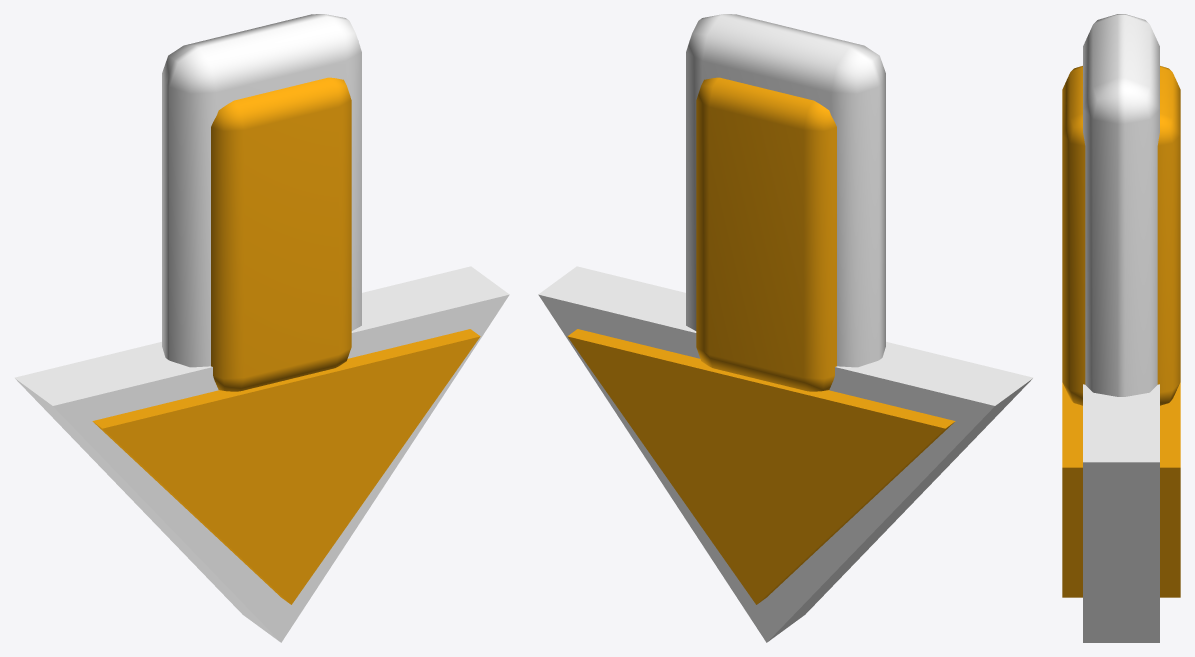
File: help_arrow.glb
The picture shows the model from 3 angles, left to right: view 1: azimuth 30°, elevation 25°; view 2: azimuth 150°, elevation 25°; view 3: azimuth 270°, elevation 25°; orthographic projection.
Visible parts, largest first — view 1: pv3_help_arrow; view 2: pv3_help_arrow; view 3: pv3_help_arrow.
Boxes of the visible parts, x1,y1,x2,y2 form: pv3_help_arrow: [14, 14, 509, 642]; pv3_help_arrow: [538, 14, 1033, 642]; pv3_help_arrow: [1062, 14, 1180, 642].
Size of the model in its own units: 0.58 by 0.725 by 0.13.
